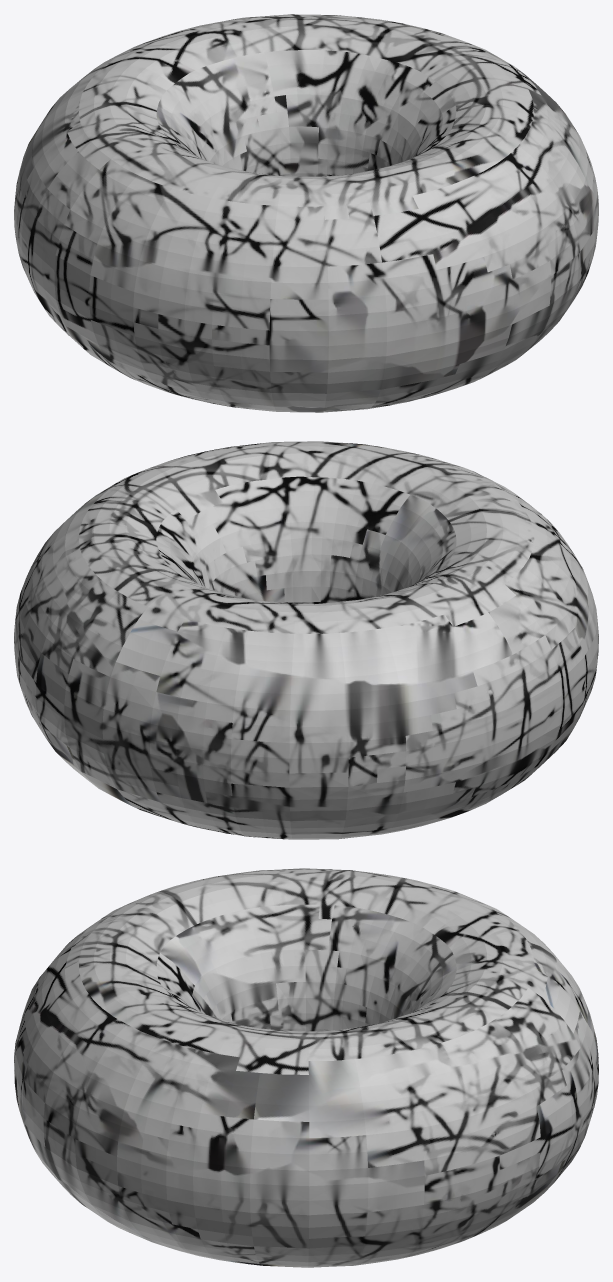
File: tripo_convert_672a37e7-00e5-44a2-8c06-8a91832d63d9 2.obj
The picture shows the model from 3 angles, top to bottom: view 1: azimuth 30°, elevation 25°; view 2: azimuth 150°, elevation 25°; view 3: azimuth 270°, elevation 25°; orthographic projection.
Parts seen in each view (by area): view 1: tripo_node_672a37e7-00e5-44a2-8c06-8a91832d63d9; view 2: tripo_node_672a37e7-00e5-44a2-8c06-8a91832d63d9; view 3: tripo_node_672a37e7-00e5-44a2-8c06-8a91832d63d9.
Boxes of the visible parts, x1,y1,x2,y2 form: tripo_node_672a37e7-00e5-44a2-8c06-8a91832d63d9: (14,14,598,412); tripo_node_672a37e7-00e5-44a2-8c06-8a91832d63d9: (14,441,598,839); tripo_node_672a37e7-00e5-44a2-8c06-8a91832d63d9: (14,868,598,1267).
Size of the model in its own units: 0.9968 by 0.4178 by 0.9935.
1 material, 1 textured.
